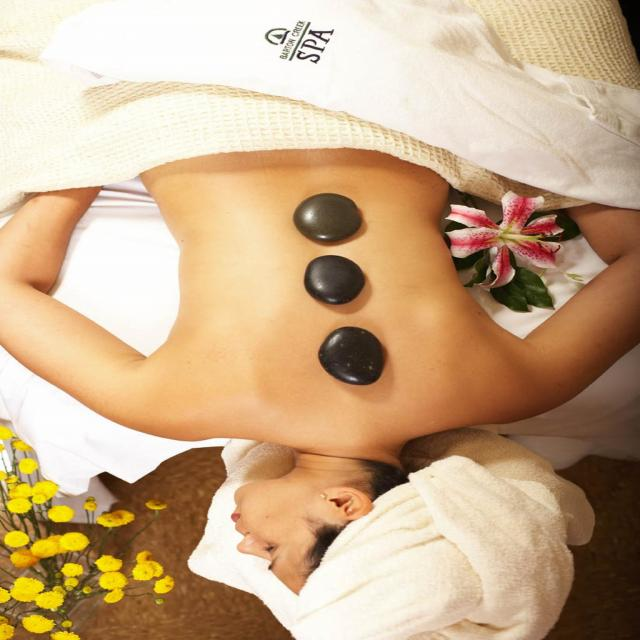nomask: (222, 486, 330, 602)
